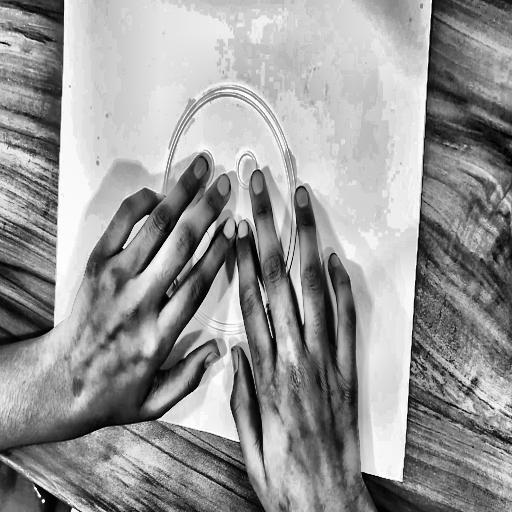bottom_left: (53, 374, 60, 386)
bottom_right: (398, 474, 405, 487)
button: (148, 66, 314, 363)
